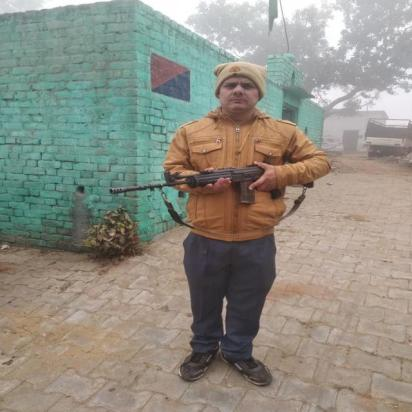Gun: (108, 159, 319, 206)
